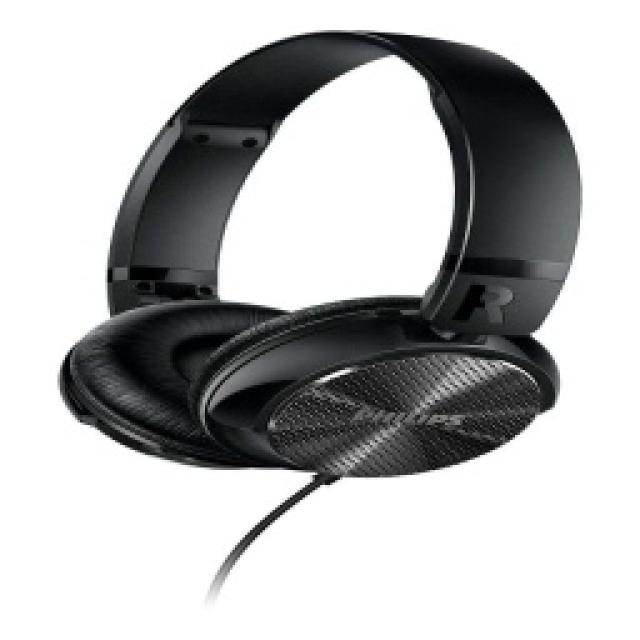headphones: (58, 25, 582, 480)
